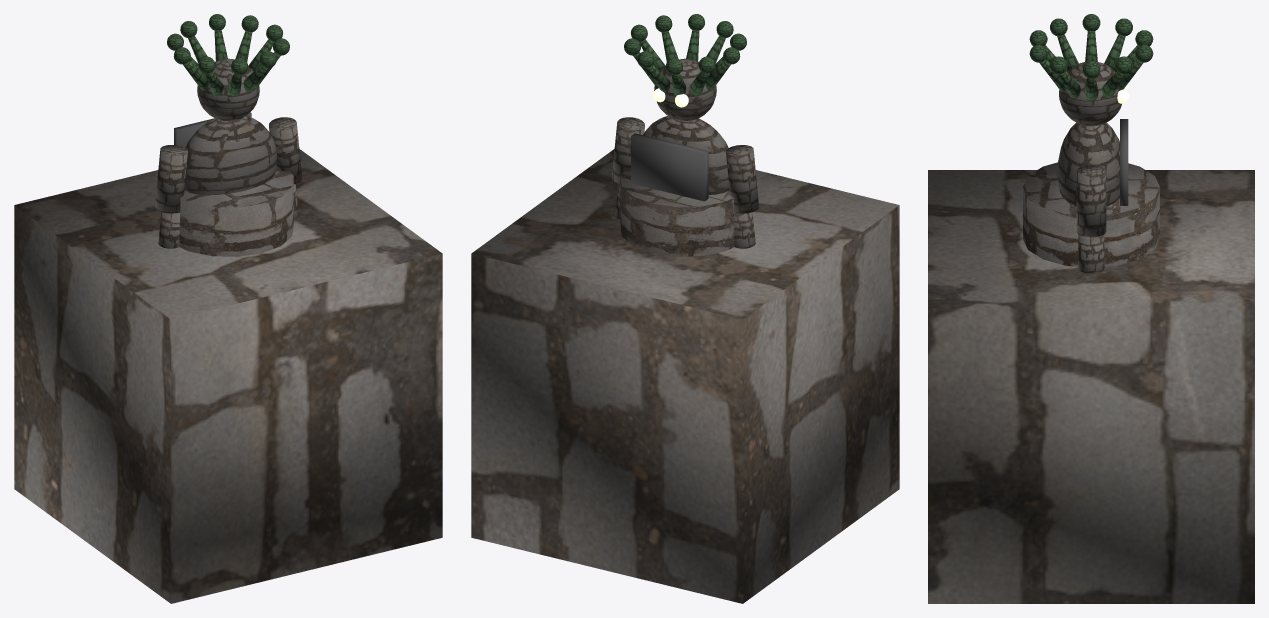
File: medusa.glb
3 renders of one model, left to right at view 1: azimuth 30°, elevation 25°; view 2: azimuth 150°, elevation 25°; view 3: azimuth 270°, elevation 25°, orthographic. The views are drawn at different scales.
Visible parts, largest first — view 1: Cube, Robe, Torso, Head, UpperArmL, UpperArmR, ForearmL; view 2: Cube, Robe, Chestplate, Torso, UpperArmL, Head, UpperArmR, ForearmL; view 3: Cube, Robe, Torso, Head, UpperArmR, ForearmR, Chestplate.
Boxes of the visible parts, x1=… form: Cube: x1=14, y1=149, x2=442, y2=603; Robe: x1=179, y1=169, x2=293, y2=256; Torso: x1=184, y1=116, x2=277, y2=195; Head: x1=197, y1=58, x2=259, y2=121; UpperArmL: x1=155, y1=145, x2=187, y2=213; UpperArmR: x1=269, y1=117, x2=301, y2=184; ForearmL: x1=158, y1=212, x2=179, y2=248; Cube: x1=471, y1=149, x2=899, y2=603; Robe: x1=620, y1=171, x2=734, y2=256; Chestplate: x1=631, y1=133, x2=708, y2=201; Torso: x1=643, y1=116, x2=729, y2=194; UpperArmL: x1=726, y1=145, x2=758, y2=213; Head: x1=654, y1=58, x2=716, y2=121; UpperArmR: x1=612, y1=117, x2=644, y2=184; ForearmL: x1=734, y1=212, x2=755, y2=248; Cube: x1=928, y1=170, x2=1254, y2=603; Robe: x1=1023, y1=162, x2=1159, y2=266; Torso: x1=1057, y1=122, x2=1119, y2=206; Head: x1=1059, y1=61, x2=1121, y2=126; UpperArmR: x1=1076, y1=165, x2=1106, y2=236; ForearmR: x1=1078, y1=234, x2=1104, y2=273; Chestplate: x1=1120, y1=119, x2=1128, y2=205.
Size of the model in its own units: 1.31 by 2.2 by 1.31.
Materials: 5 (3 with a texture image).
